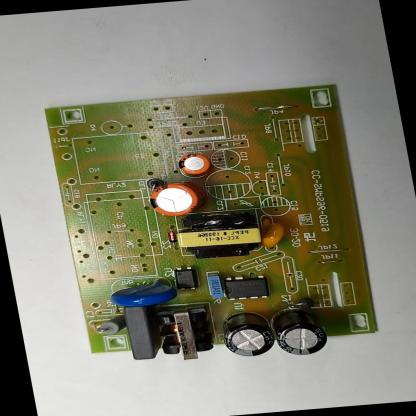Cap1: (146, 180, 207, 218)
Cap2: (174, 152, 212, 176)
Cap3: (219, 310, 277, 359)
Cap4: (268, 304, 332, 358)
MOSFET: (220, 273, 271, 301)
Mov: (106, 278, 182, 310)
Resistor: (94, 313, 127, 335)
Transformer: (173, 209, 265, 261), (151, 305, 215, 363)
